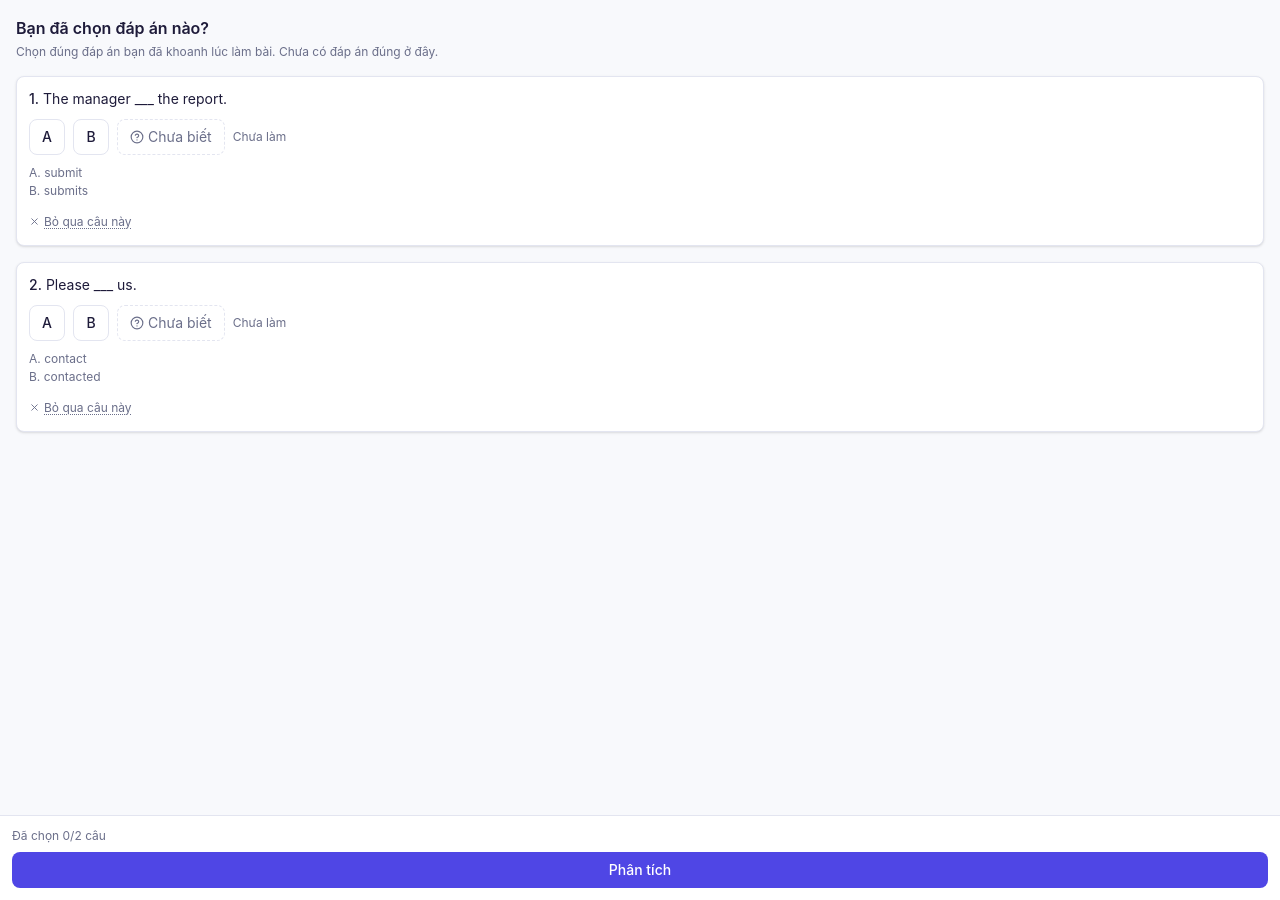
Scenario: Review hints › shows a hint error inline and lets the learner retry
The image size is (1280, 900).
Click the button "Chưa biết" below "The manager ___ the report." at (171, 137), box [117,119,225,155]
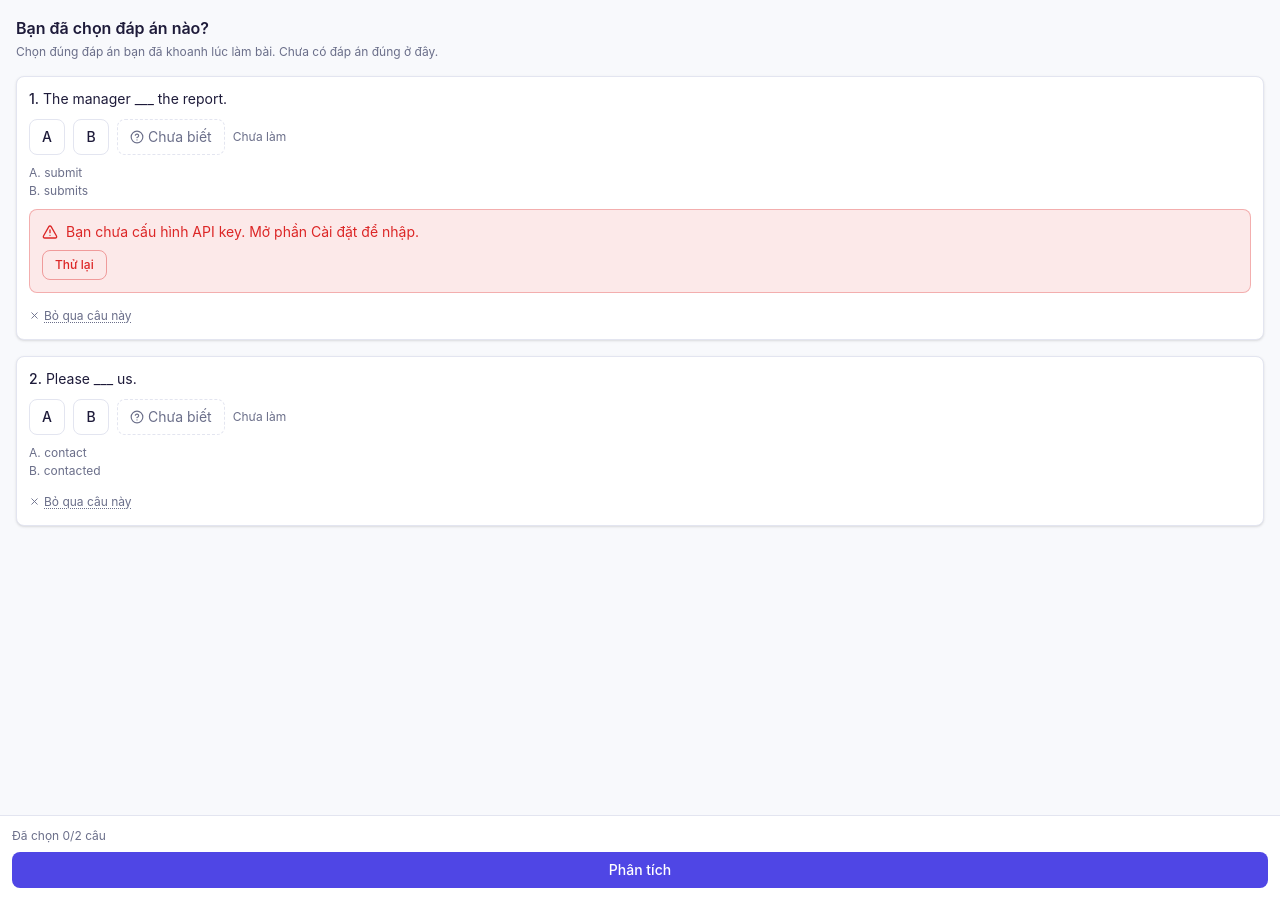
expect the message "Bạn chưa cấu hình API key. Mở phần Cài đặt để nhập. Thử lại" is shown: met, box [29,209,1251,293]
